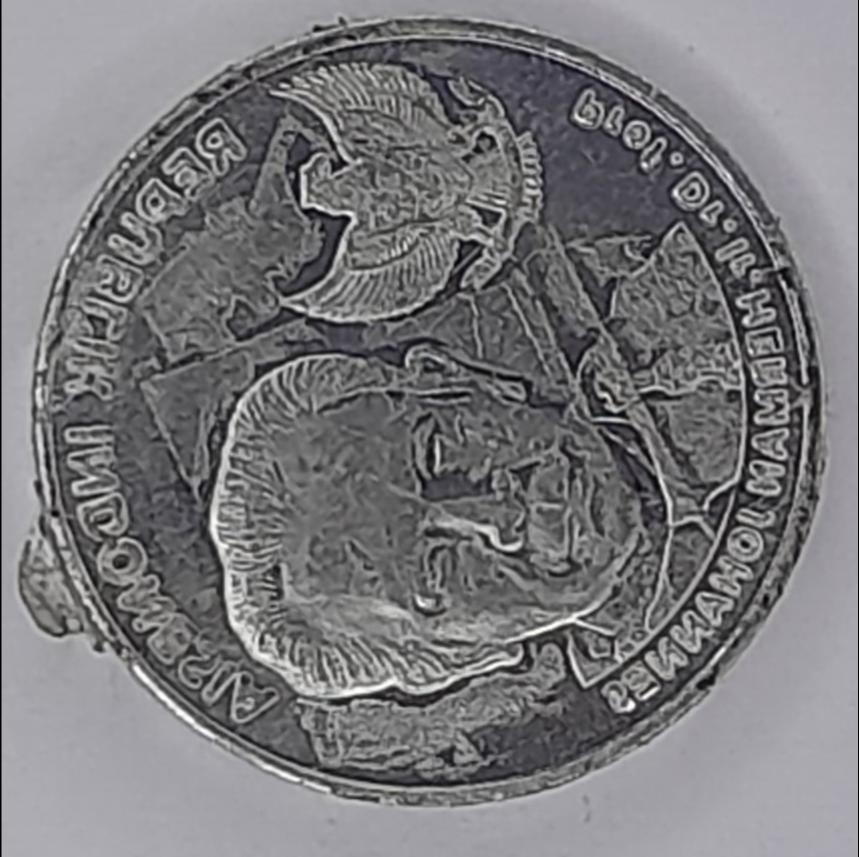coin_100_e2016: (15, 7, 833, 812)
